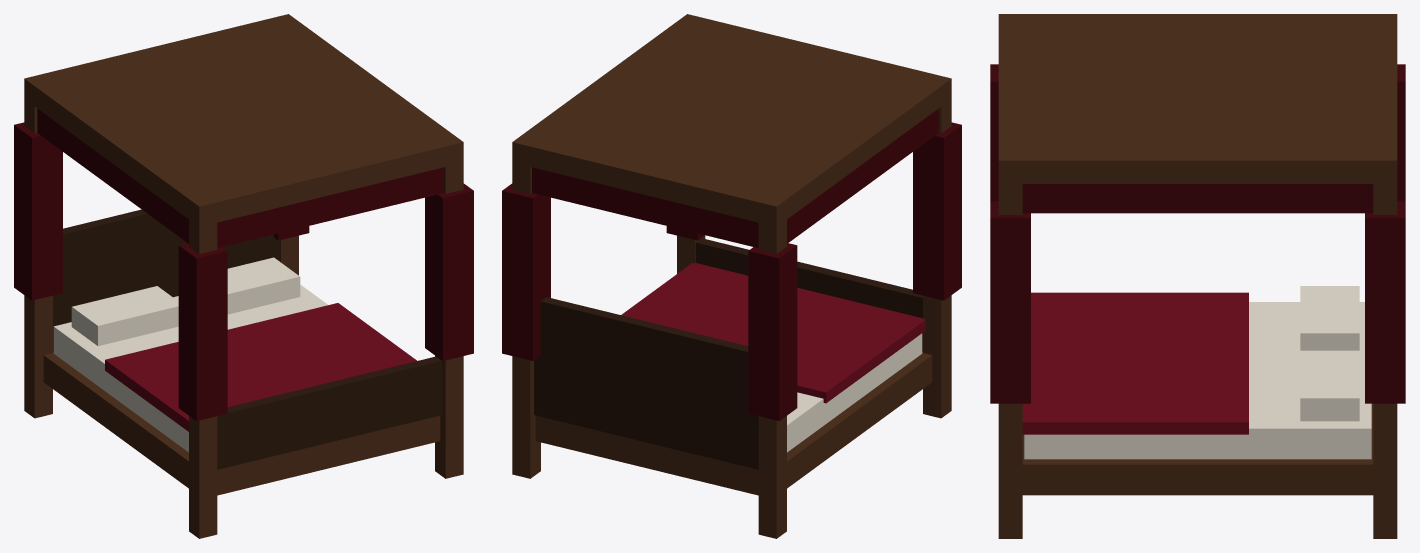
The model's file is ge_four_poster_bed.glb.
3 renders of one model, left to right at view 1: azimuth 30°, elevation 25°; view 2: azimuth 150°, elevation 25°; view 3: azimuth 270°, elevation 25°, orthographic. The views are drawn at different scales.
Visible parts, largest first — view 1: ge_four_poster_bed; view 2: ge_four_poster_bed; view 3: ge_four_poster_bed.
Part boxes in pixels (box(x1,y1,x2,y2)): ge_four_poster_bed: box(14, 14, 473, 538); ge_four_poster_bed: box(502, 14, 961, 538); ge_four_poster_bed: box(990, 14, 1405, 538).
Bounding box in the file's own units: 2.14 × 2.45 × 2.44.
